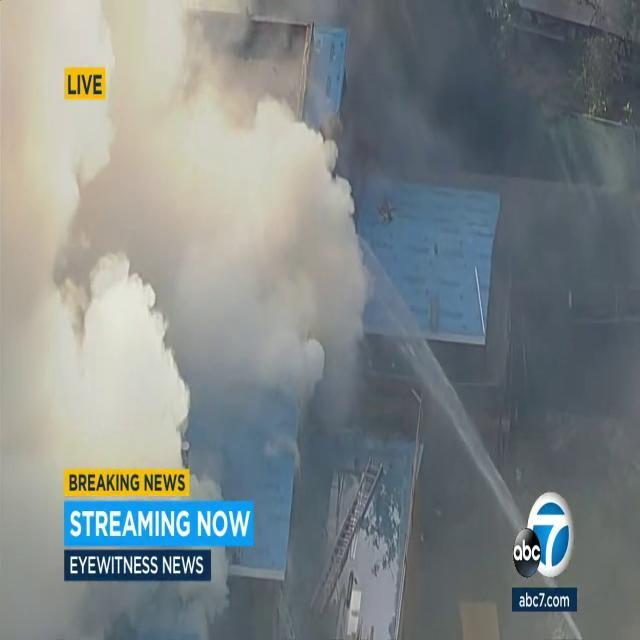Smoke: (0, 0, 410, 469)
